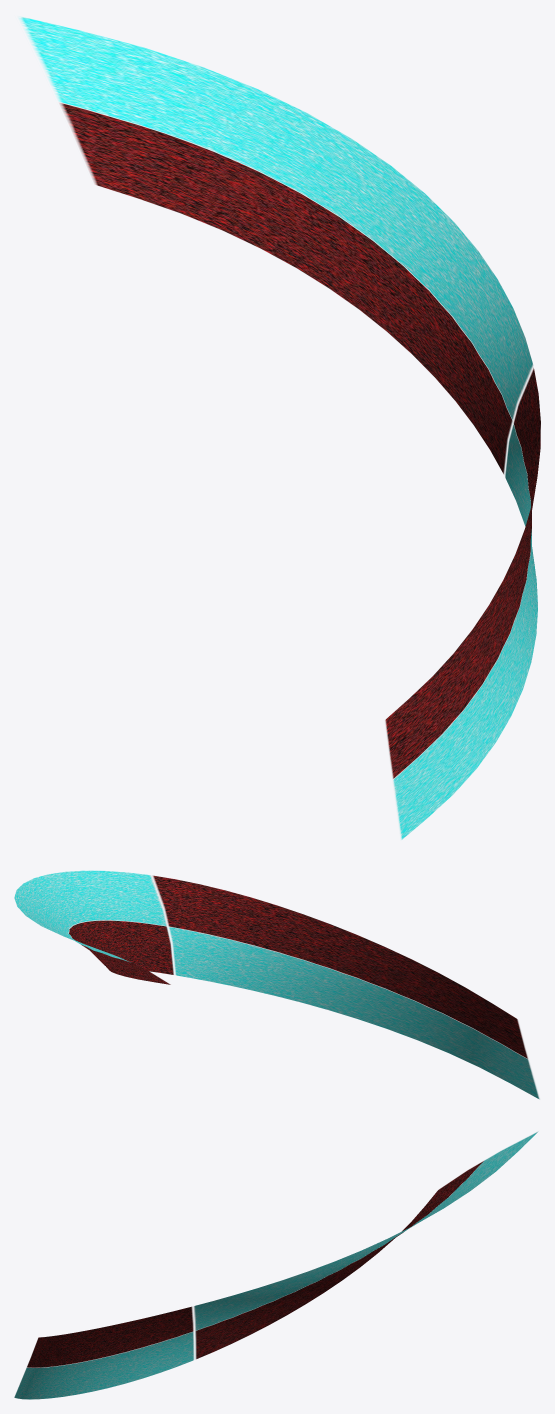
The picture shows the model from 3 angles, top to bottom: view 1: azimuth 30°, elevation 25°; view 2: azimuth 150°, elevation 25°; view 3: azimuth 270°, elevation 25°; orthographic projection. The views are drawn at different scales.
Parts seen in each view (by area): view 1: SM_VFX_Swirl_01_LOD0; view 2: SM_VFX_Swirl_01_LOD0; view 3: SM_VFX_Swirl_01_LOD0.
Part boxes in pixels (x1,y1,x2,y2): SM_VFX_Swirl_01_LOD0: (18,16,540,839); SM_VFX_Swirl_01_LOD0: (14,870,539,1099); SM_VFX_Swirl_01_LOD0: (14,1131,538,1399).
Size of the model in its own units: 9 by 13.63 by 22.76.
1 material, 1 textured.
